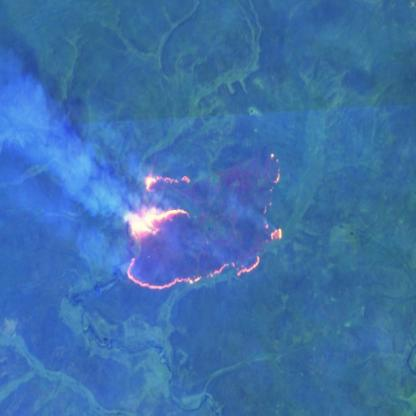fire: (120, 149, 289, 292)
